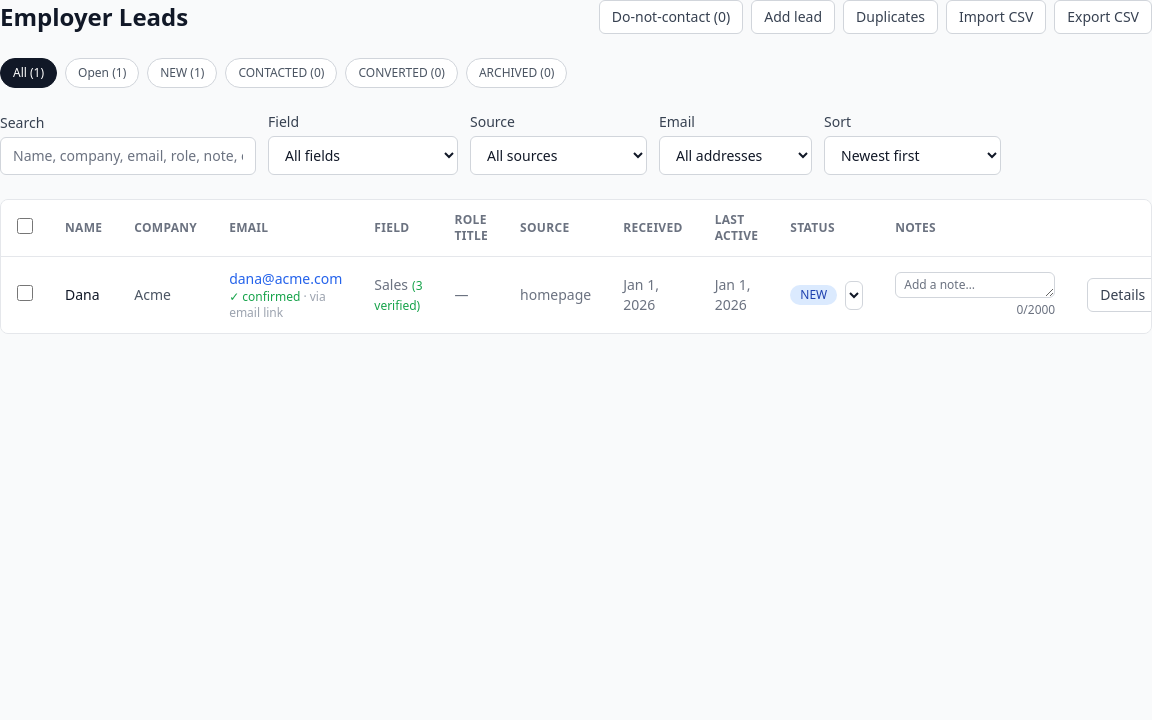
AdminLeads — mail suppression in the do-not-contact modal › asks for an extra confirmation before lifting a spam-complaint block
The width and height of the screenshot is (1152, 720).
Click the button "Do-not-contact (0)": [671, 17] box [599,0,743,34]
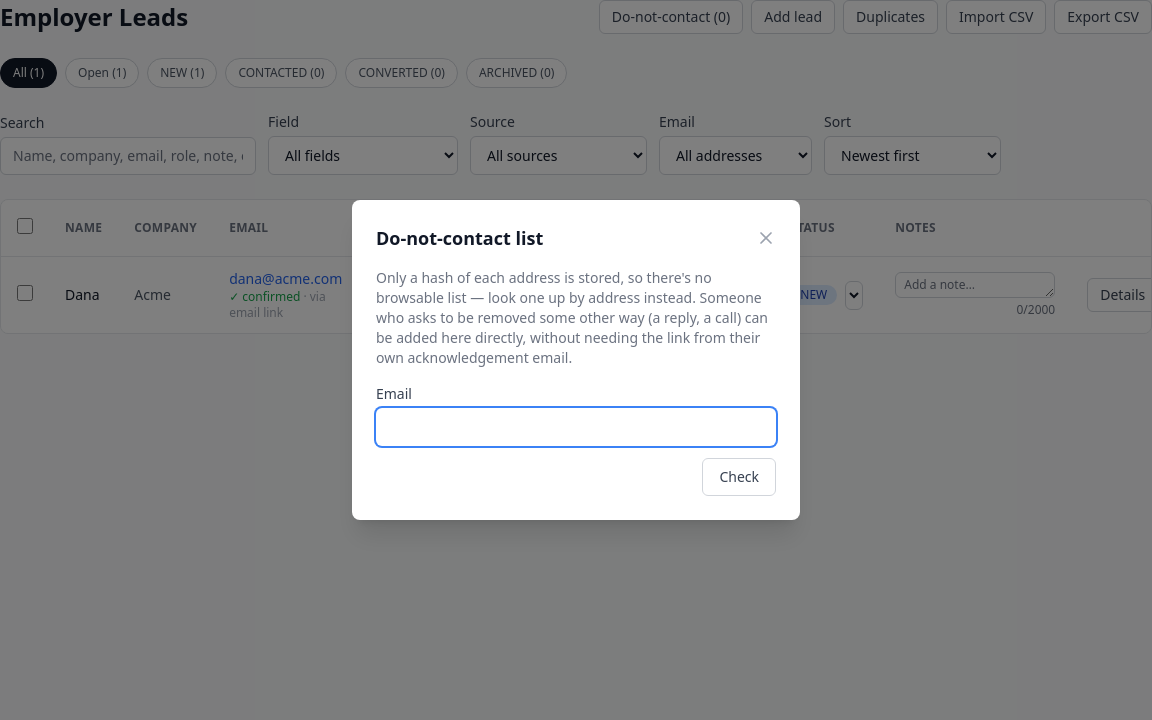
In the field labelled "Email": [576, 427] box [376,408,776,446], type "bounce@x.com"
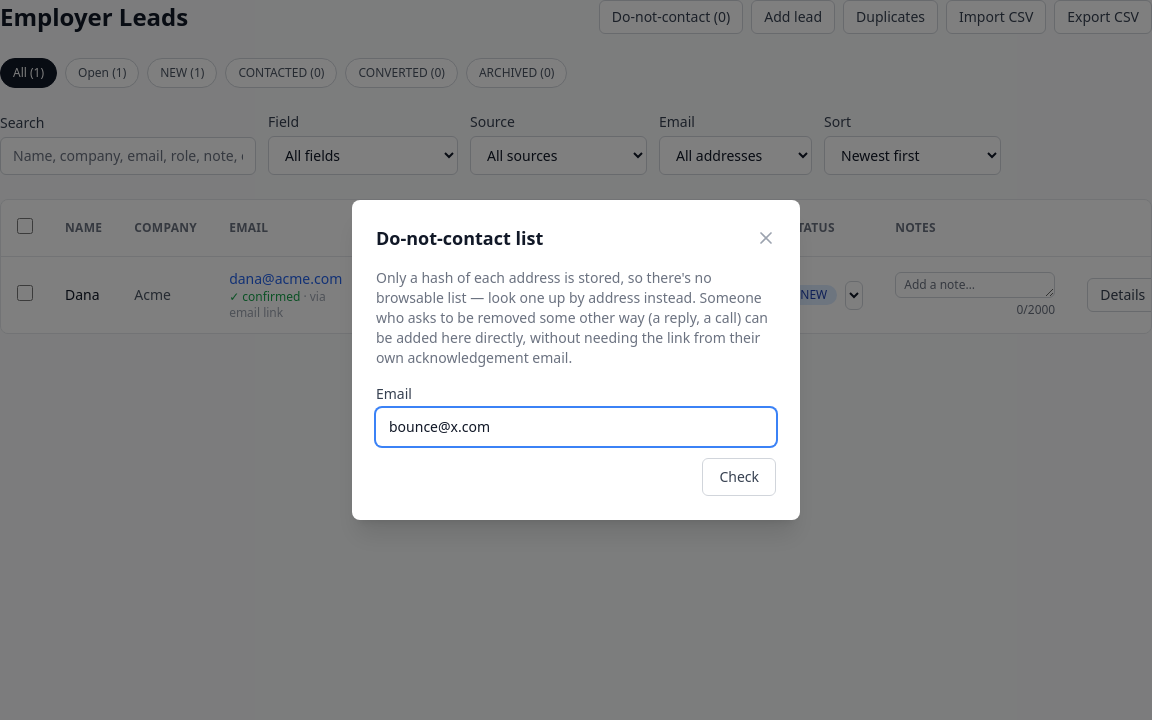
Click the button "Check": [739, 477] box [702,458,776,496]
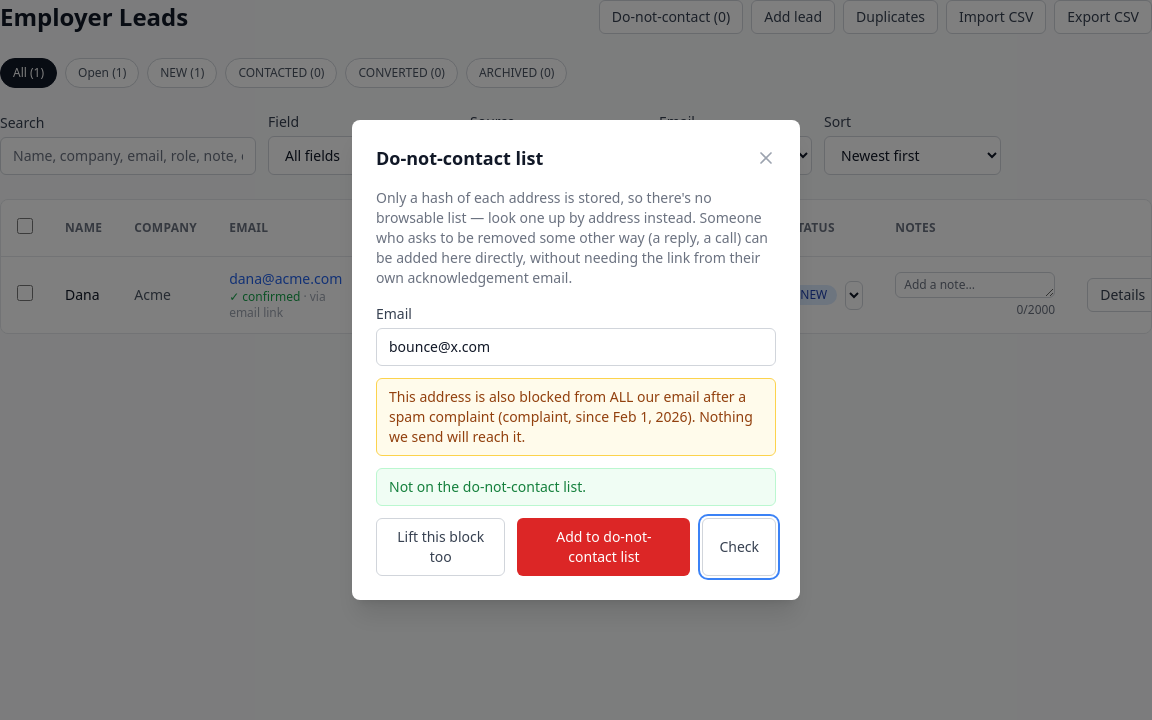
Click the button "Lift this block too": [441, 547] box [376,518,505,576]
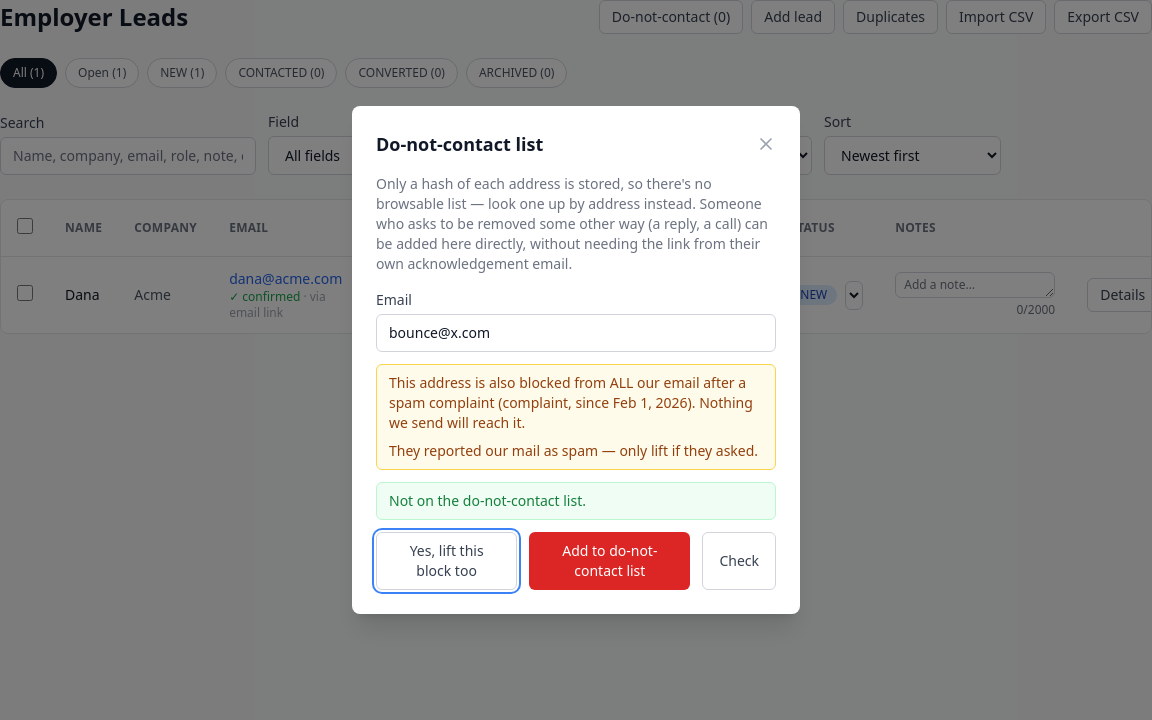
Check: the text "They reported our mail as spam — only lift if they asked." is shown, box [389,441,763,461]
Click the button "Yes, lift this block too": [447, 561] box [376,532,517,590]
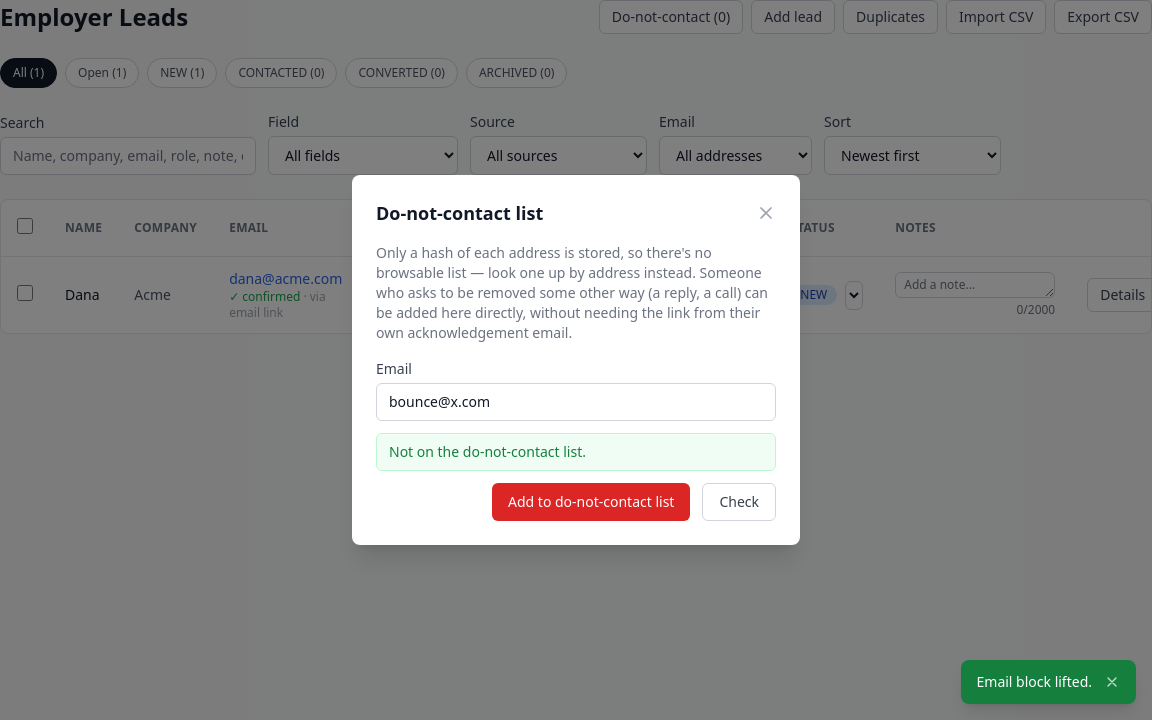
Check: the text "Email block lifted." is shown, box [976,672,1092,692]
